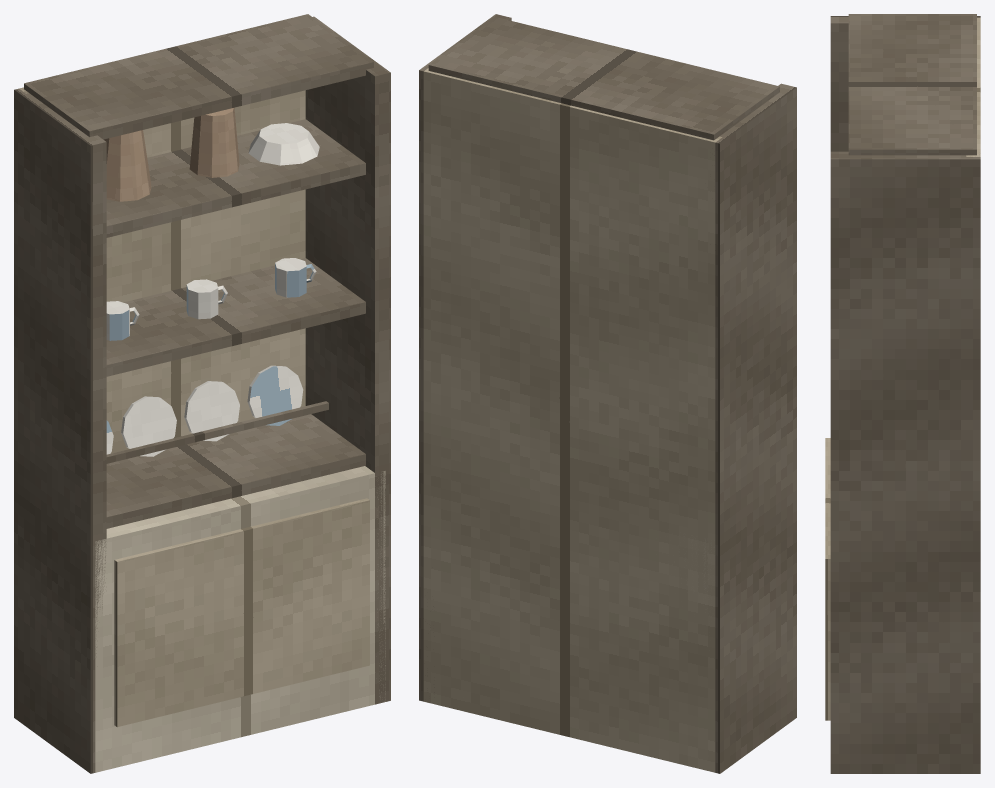
File: dish_cupboard.glb
The picture shows the model from 3 angles, left to right: view 1: azimuth 30°, elevation 25°; view 2: azimuth 150°, elevation 25°; view 3: azimuth 270°, elevation 25°; orthographic projection. The views are drawn at different scales.
Visible parts, largest first — view 1: body; view 2: body; view 3: body.
Part boxes in pixels (<box>): body: <box>14,14,390,773</box>; body: <box>419,14,796,773</box>; body: <box>825,14,980,773</box>.
Size of the model in its own units: 0.95 by 1.92 by 0.435.
5 materials, 5 textured.
